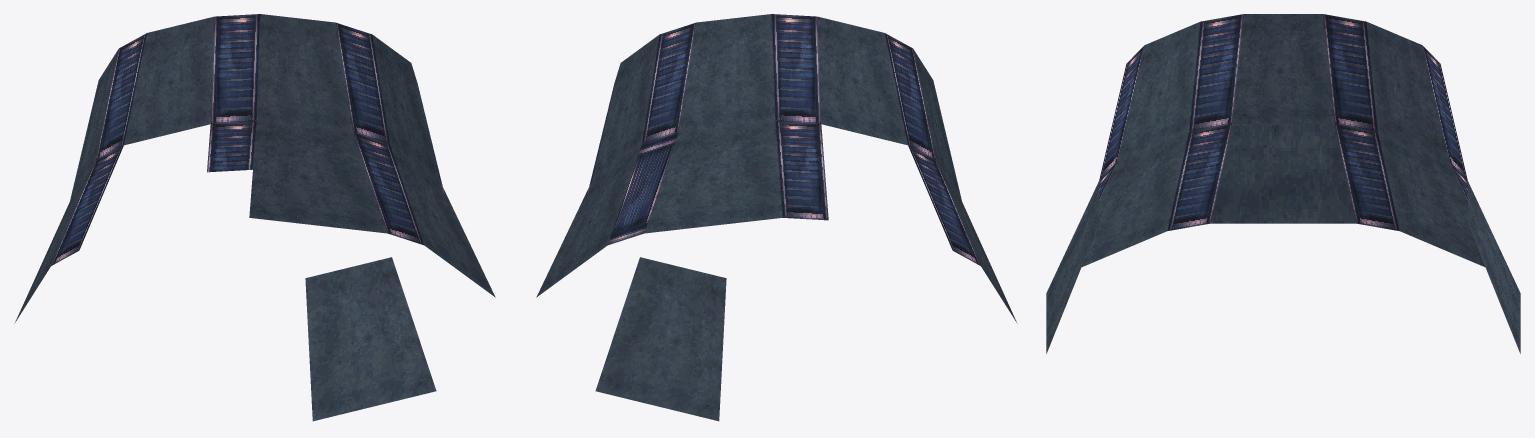
File: NUCLEAR_TOP.glb
3 renders of one model, left to right at view 1: azimuth 30°, elevation 25°; view 2: azimuth 150°, elevation 25°; view 3: azimuth 270°, elevation 25°, orthographic.
Visible parts, largest first — view 1: NUCLEAR_TOP; view 2: NUCLEAR_TOP; view 3: NUCLEAR_TOP.
Boxes of the visible parts, x1=… form: NUCLEAR_TOP: x1=14, y1=14, x2=495, y2=421; NUCLEAR_TOP: x1=536, y1=14, x2=1017, y2=421; NUCLEAR_TOP: x1=1046, y1=14, x2=1520, y2=353.
Bounding box in the file's own units: 15565 × 8817 × 15565.
Materials: 3 (3 with a texture image).
